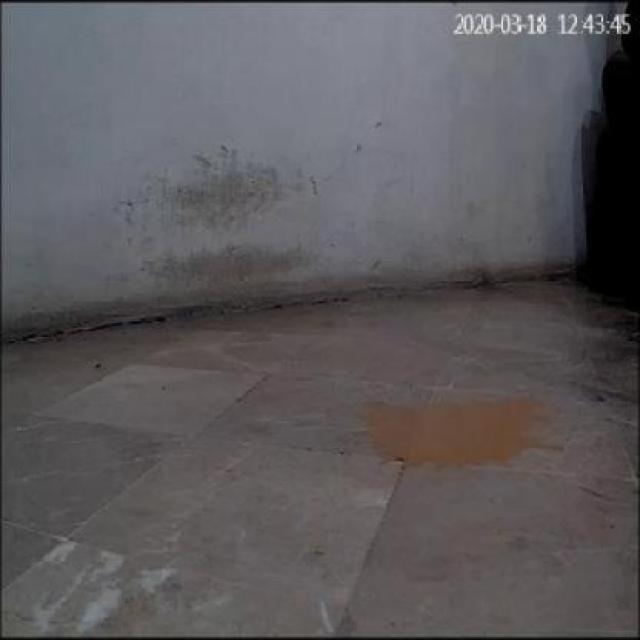spillage: (367, 401, 563, 466)
